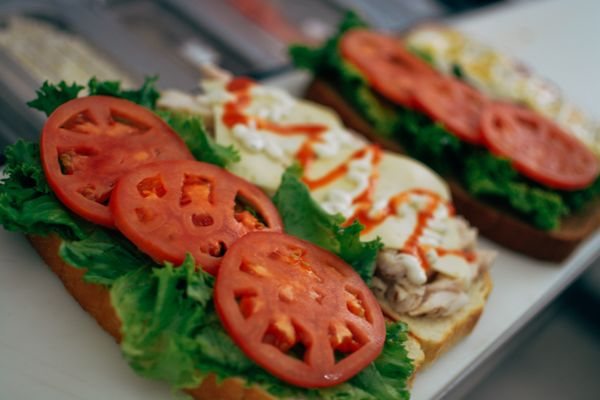soup: (291, 20, 600, 260)
